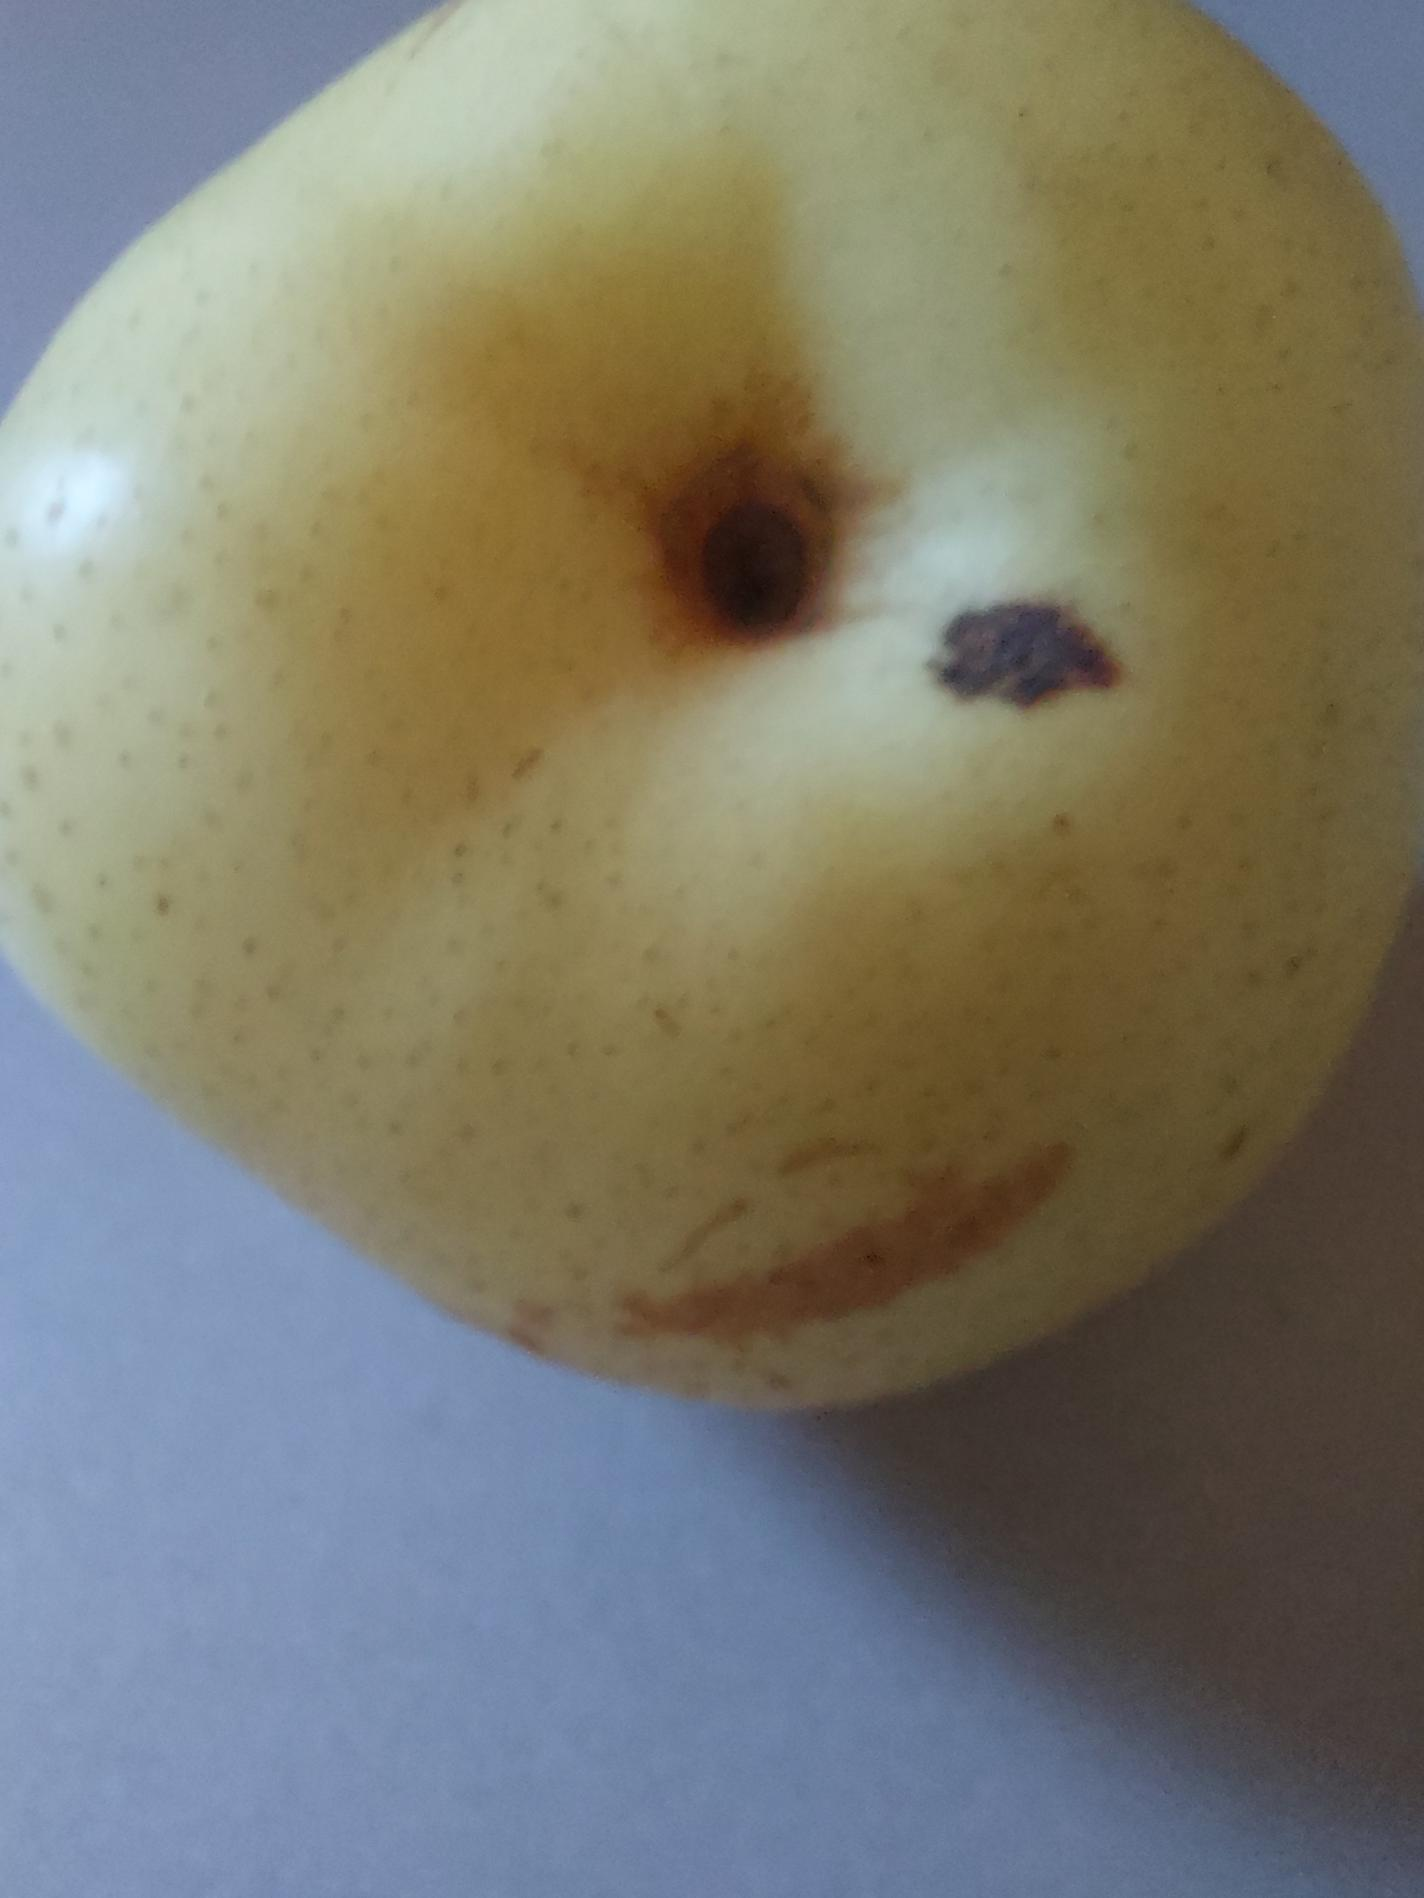Good Pear: (0, 0, 1424, 1512)
